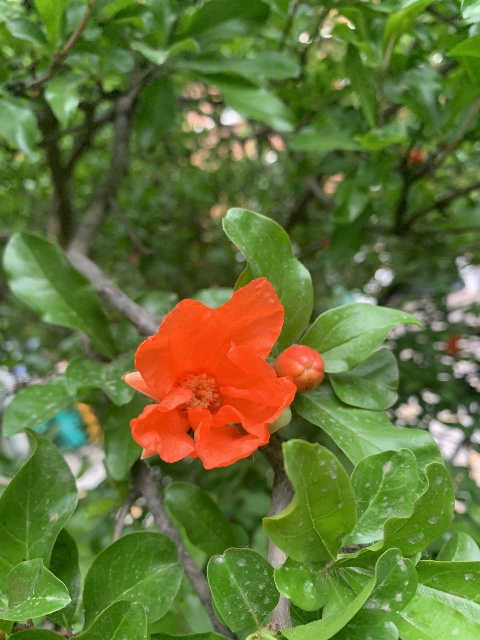bud: (276, 344, 324, 393)
flower: (121, 276, 296, 470)
